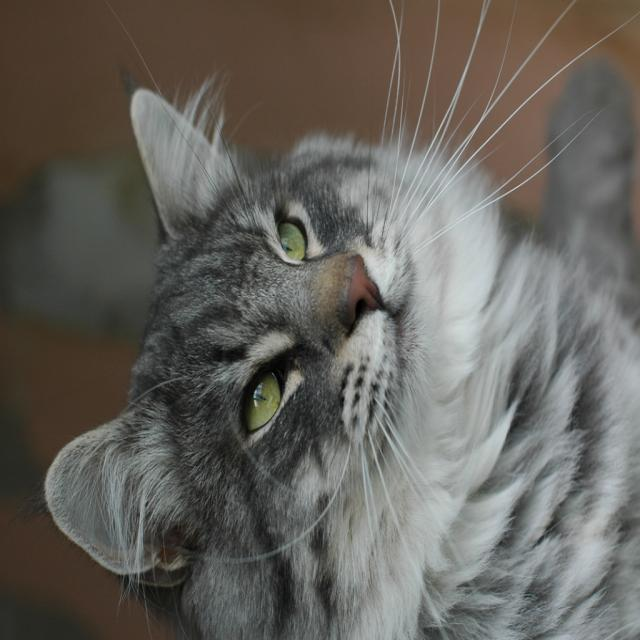Cat: (2, 0, 638, 638)
